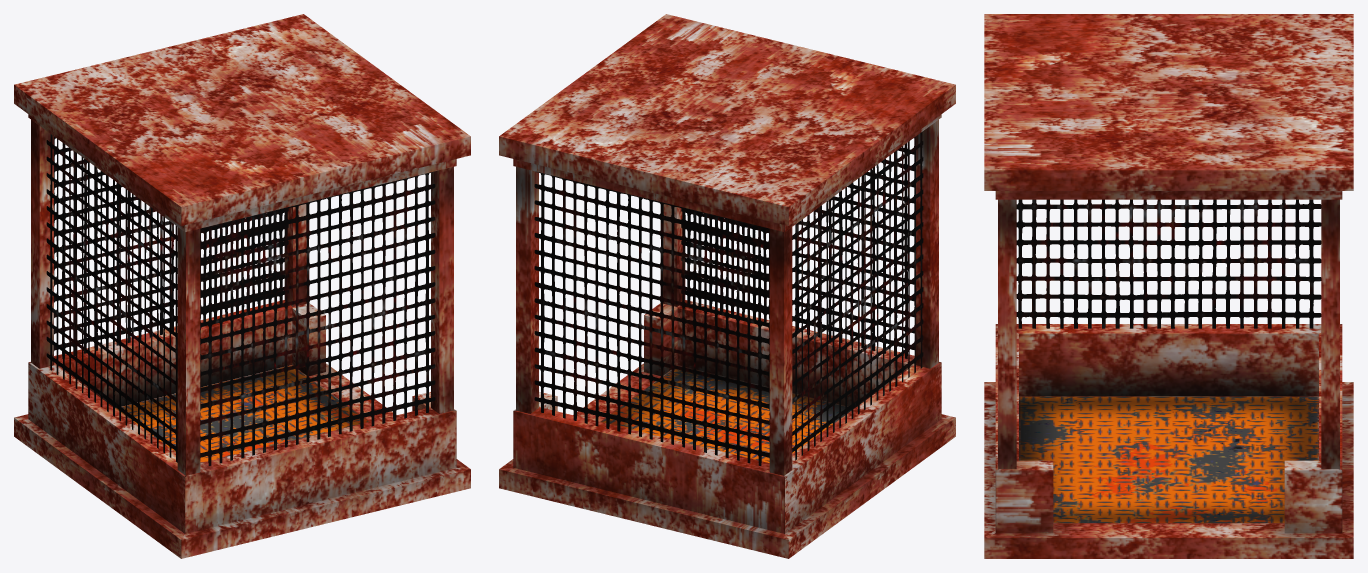
File: Elevator.fbx
3 renders of one model, left to right at view 1: azimuth 30°, elevation 25°; view 2: azimuth 150°, elevation 25°; view 3: azimuth 270°, elevation 25°, orthographic. The views are drawn at different scales.
Parts seen in each view (by area): view 1: Elevator; view 2: Elevator; view 3: Elevator.
Part boxes in pixels (x1,y1,x2,y2): Elevator: [14, 14, 470, 558]; Elevator: [499, 14, 955, 558]; Elevator: [984, 14, 1353, 558].
Size of the model in its own units: 204 by 237 by 204.
